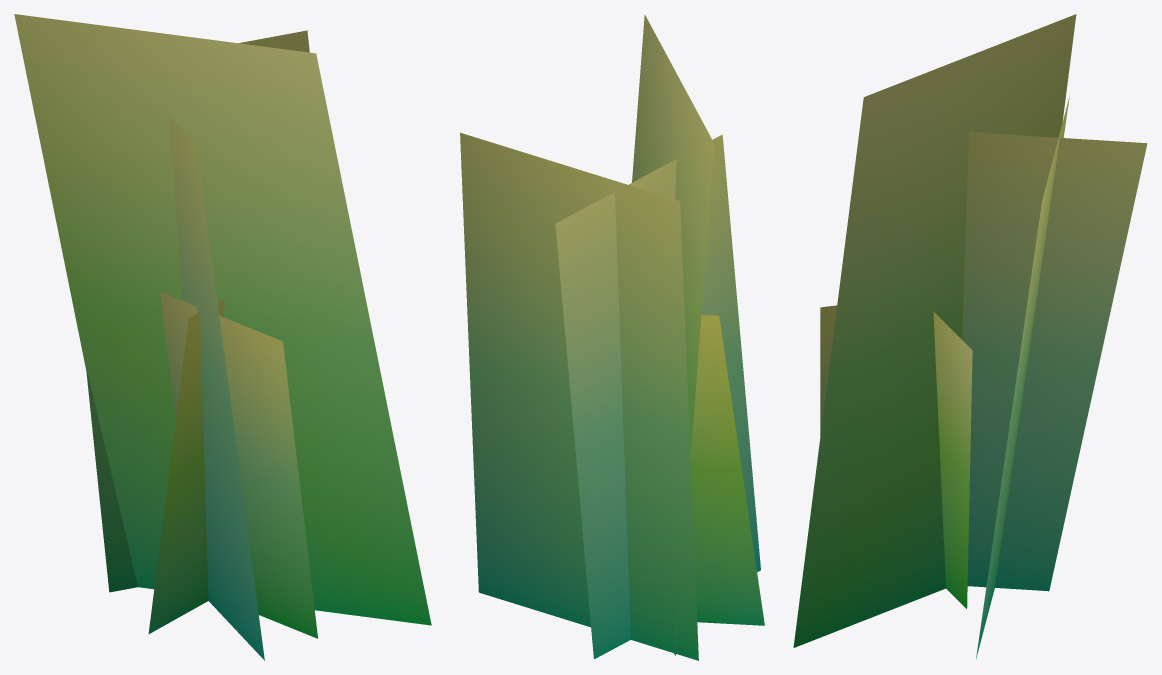
Rendered from sedge_tuft.glb.
The picture shows the model from 3 angles, left to right: view 1: azimuth 30°, elevation 25°; view 2: azimuth 150°, elevation 25°; view 3: azimuth 270°, elevation 25°; orthographic projection. The views are drawn at different scales.
Visible parts, largest first — view 1: LOD0; view 2: LOD0; view 3: LOD0.
Boxes of the visible parts, x1,y1,x2,y2 form: LOD0: [14, 14, 431, 660]; LOD0: [460, 14, 764, 660]; LOD0: [793, 14, 1147, 658].
Size of what is drawn, in the model's own units: 0.2605 by 0.4803 by 0.2984.
